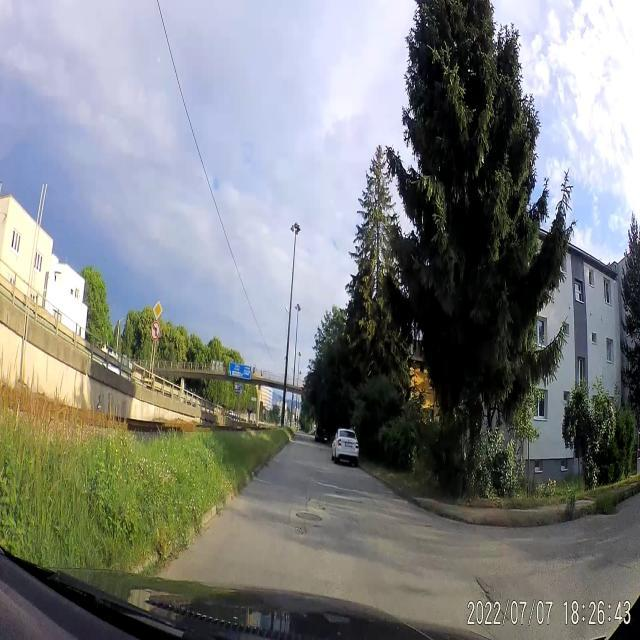Manhole: (467, 571, 513, 633)
Pothole: (296, 510, 322, 524)
